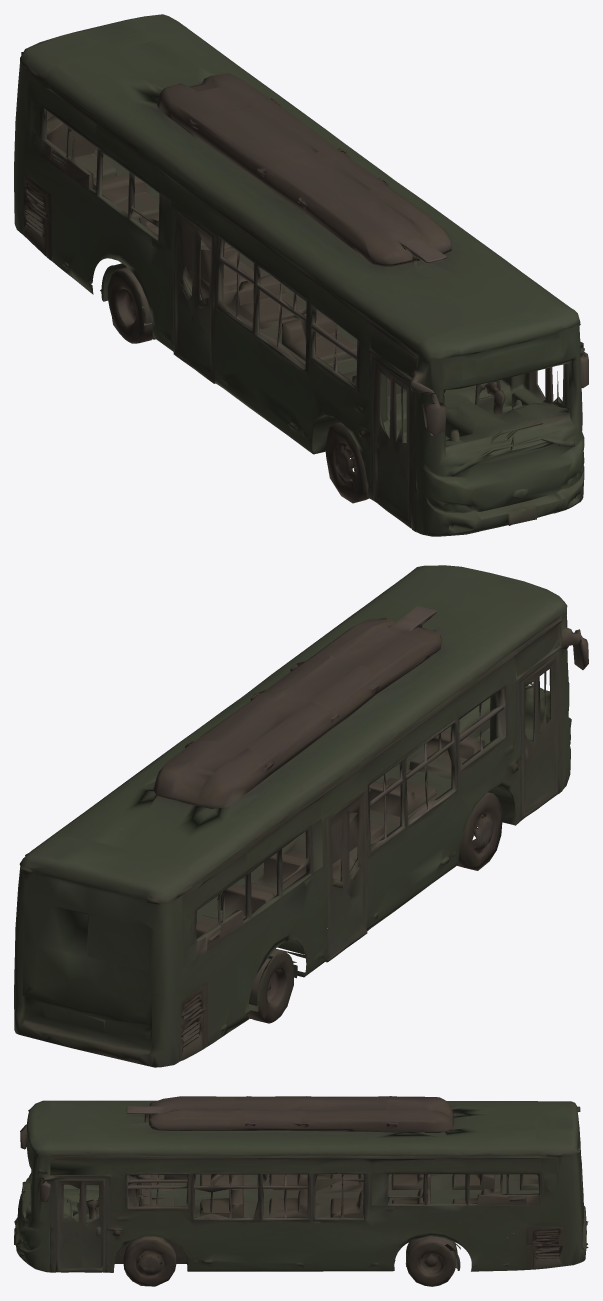
File: city-bus.glb
3 views of the same model, one above another, from view 1: azimuth 30°, elevation 25°; view 2: azimuth 150°, elevation 25°; view 3: azimuth 270°, elevation 25° (orthographic). The views are drawn at different scales.
Parts seen in each view (by area): view 1: body, mesh_rl, mesh_fl; view 2: body, mesh_rl, mesh_fl; view 3: body, mesh_rr, mesh_fr.
Boxes of the visible parts, x1,y1,x2,y2 form: body: [14, 14, 588, 536]; mesh_rl: [100, 263, 155, 343]; mesh_fl: [325, 422, 368, 503]; body: [14, 565, 588, 1067]; mesh_rl: [248, 949, 297, 1023]; mesh_fl: [457, 792, 502, 870]; body: [14, 1096, 588, 1272]; mesh_rr: [405, 1236, 460, 1286]; mesh_fr: [123, 1236, 176, 1286].
Bounding box in the file's own units: 2.5 × 3.19 × 10.5.
Materials: 1 (1 with a texture image).
